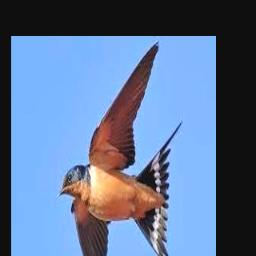Swallow: (56, 41, 182, 256)
